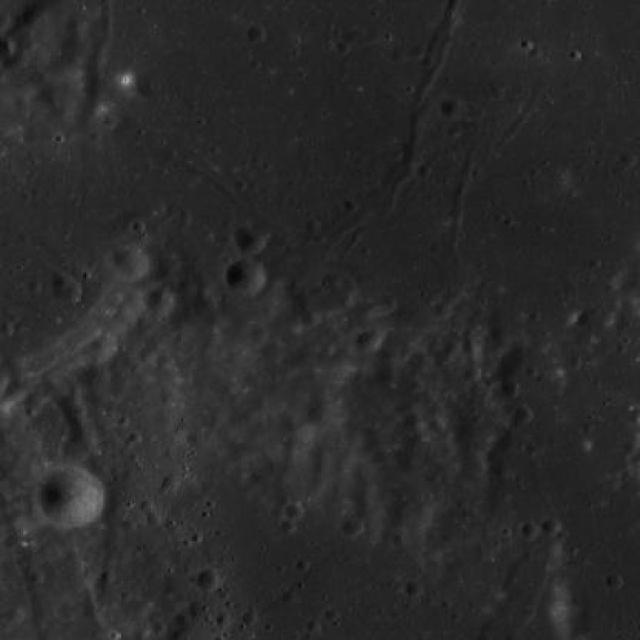crater: (494, 344, 564, 408), (38, 465, 104, 527), (388, 492, 434, 534), (274, 410, 320, 452), (226, 259, 266, 296), (304, 397, 342, 431), (63, 428, 100, 462), (112, 246, 148, 280), (145, 251, 181, 284), (232, 224, 266, 256), (58, 398, 91, 429), (144, 288, 176, 316), (440, 95, 466, 120), (461, 454, 488, 478), (54, 278, 80, 302), (358, 328, 384, 352), (196, 568, 221, 592), (90, 332, 115, 354), (341, 516, 364, 538), (184, 428, 207, 448), (540, 517, 562, 537), (402, 413, 424, 433), (374, 366, 396, 386), (4, 606, 24, 625), (188, 599, 207, 618), (284, 502, 304, 520), (249, 327, 269, 345), (0, 35, 15, 58), (433, 302, 452, 320), (522, 520, 541, 538), (160, 474, 180, 491), (502, 380, 520, 398), (322, 270, 340, 287), (514, 406, 532, 423), (406, 580, 424, 597), (344, 26, 362, 43), (389, 44, 406, 61), (50, 272, 68, 288), (300, 312, 318, 328), (619, 152, 636, 168), (173, 612, 190, 628), (248, 27, 264, 42), (0, 11, 11, 31)
